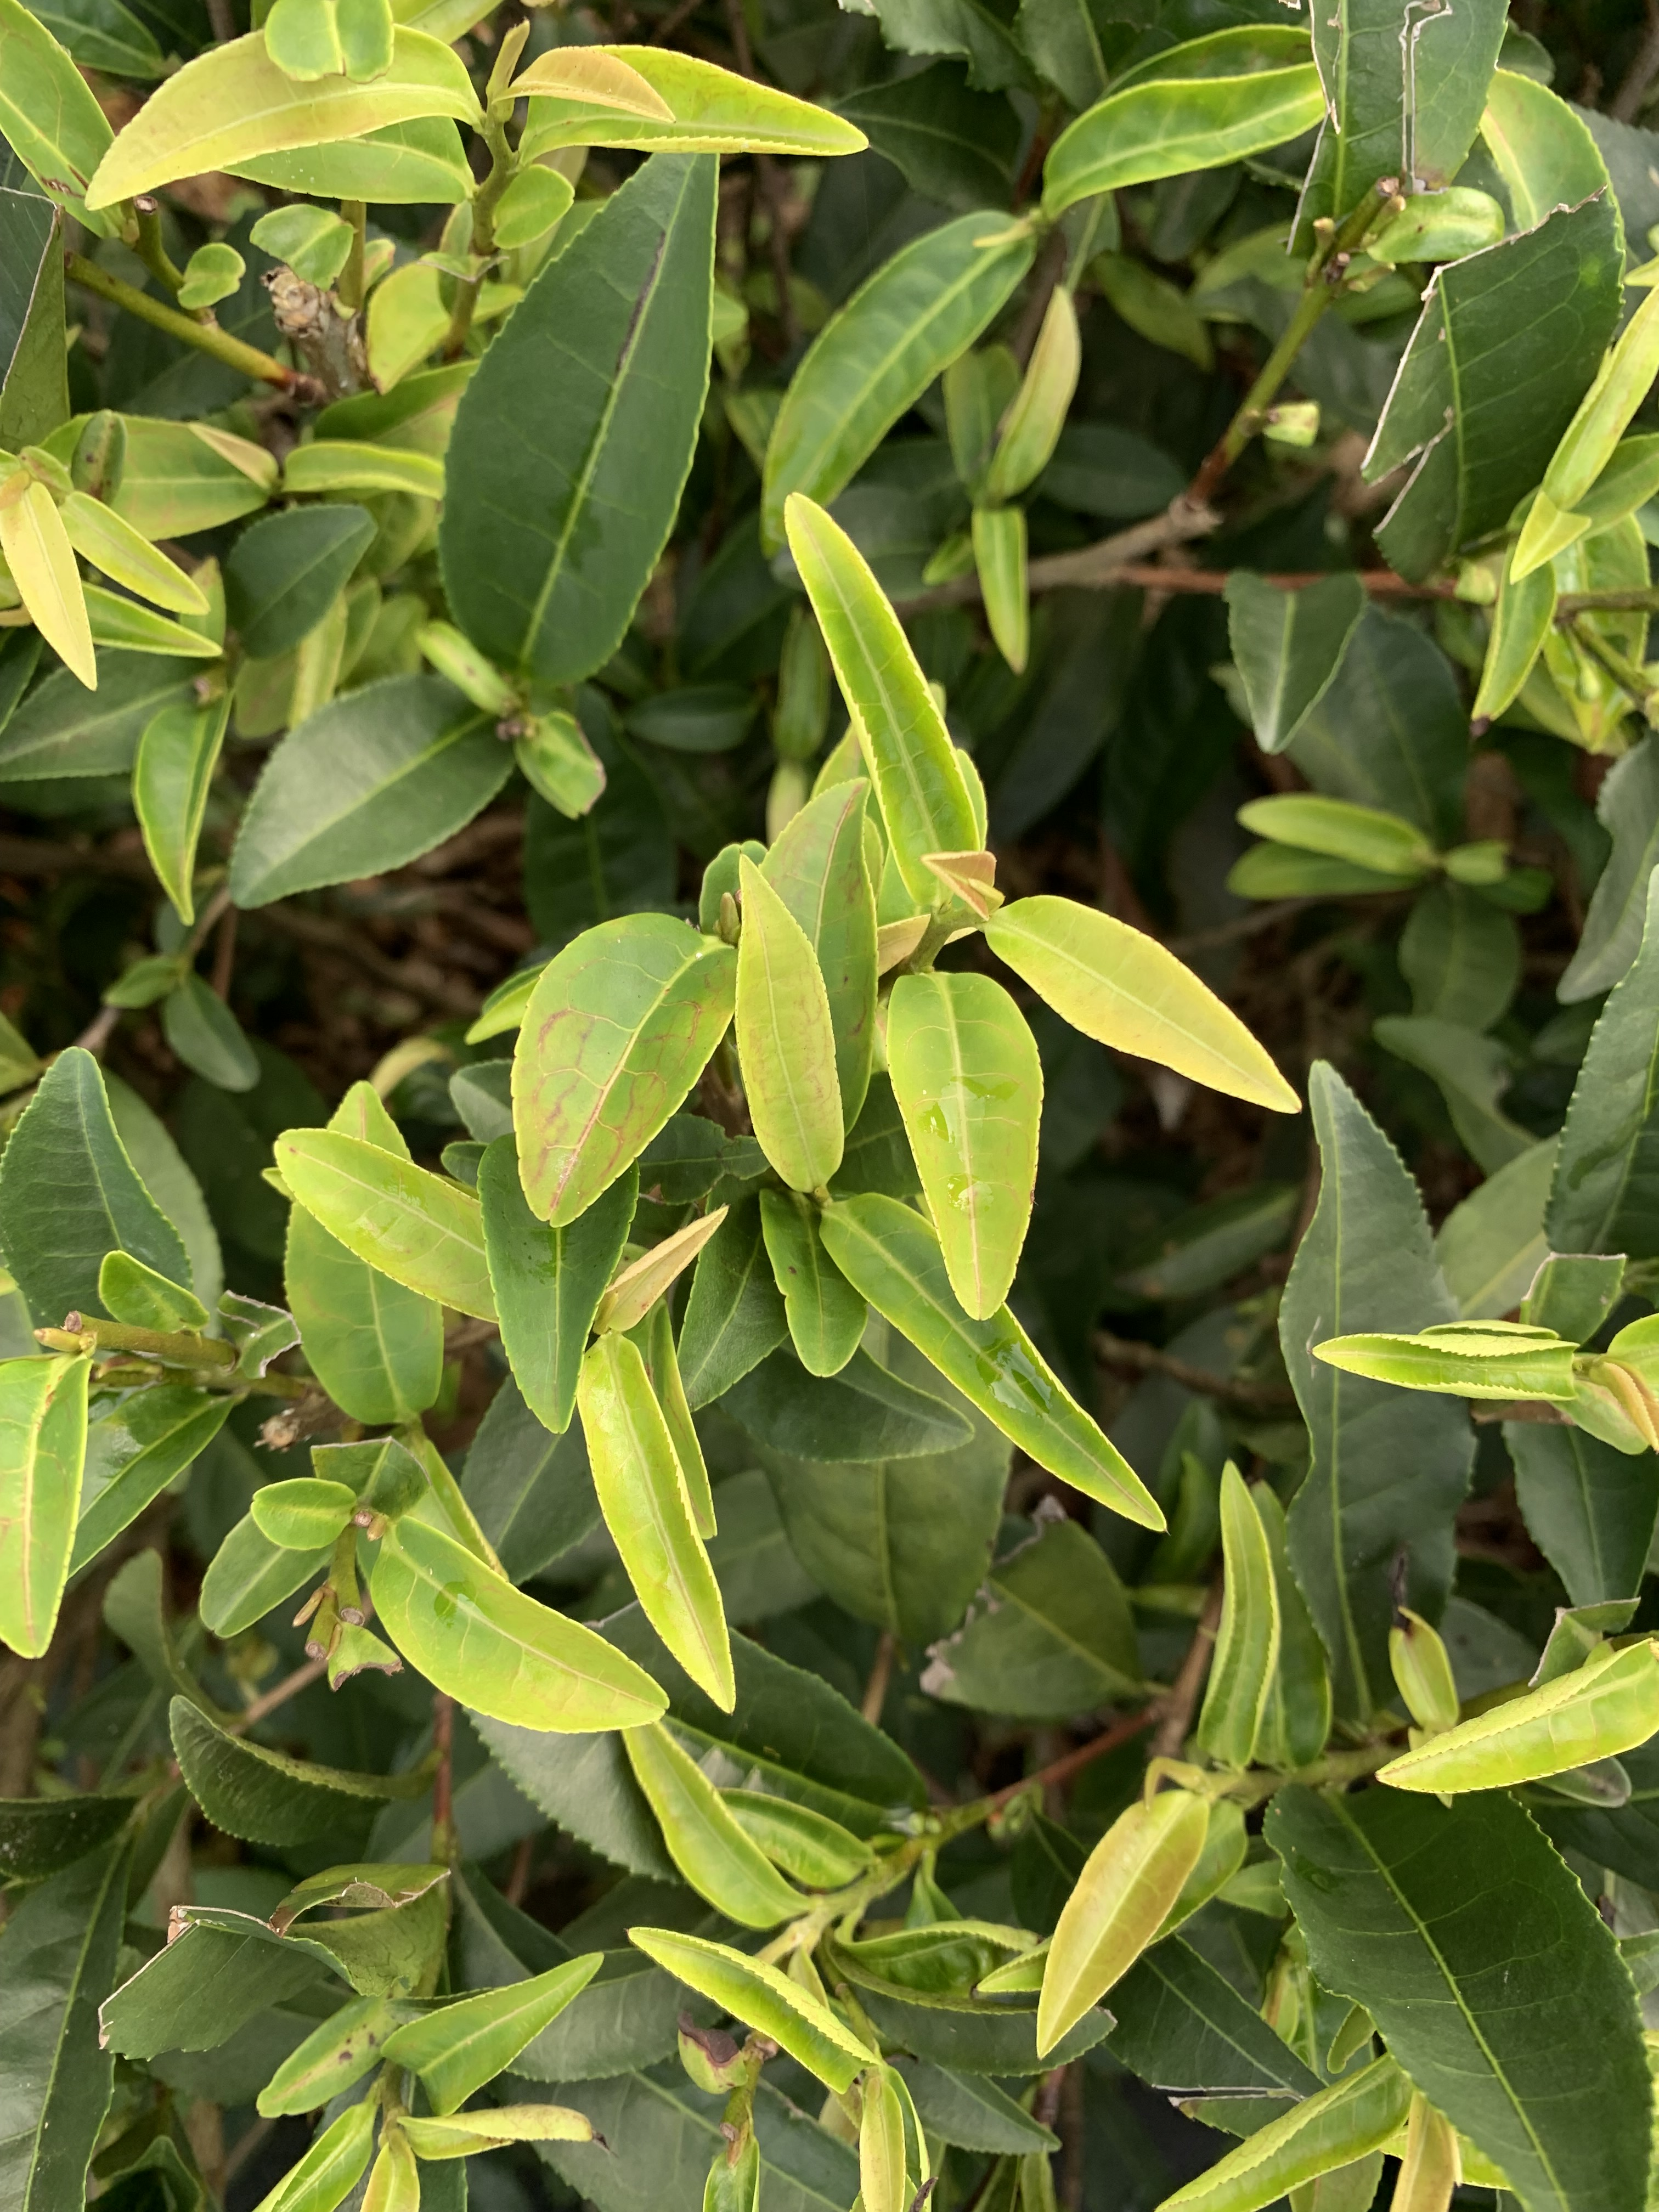formosa: (460, 934, 1002, 1235), (504, 899, 782, 1216), (580, 1313, 741, 1717), (1380, 1608, 1638, 1808), (1030, 1785, 1216, 2050), (714, 880, 868, 1181)
other: (1351, 174, 1410, 240)
